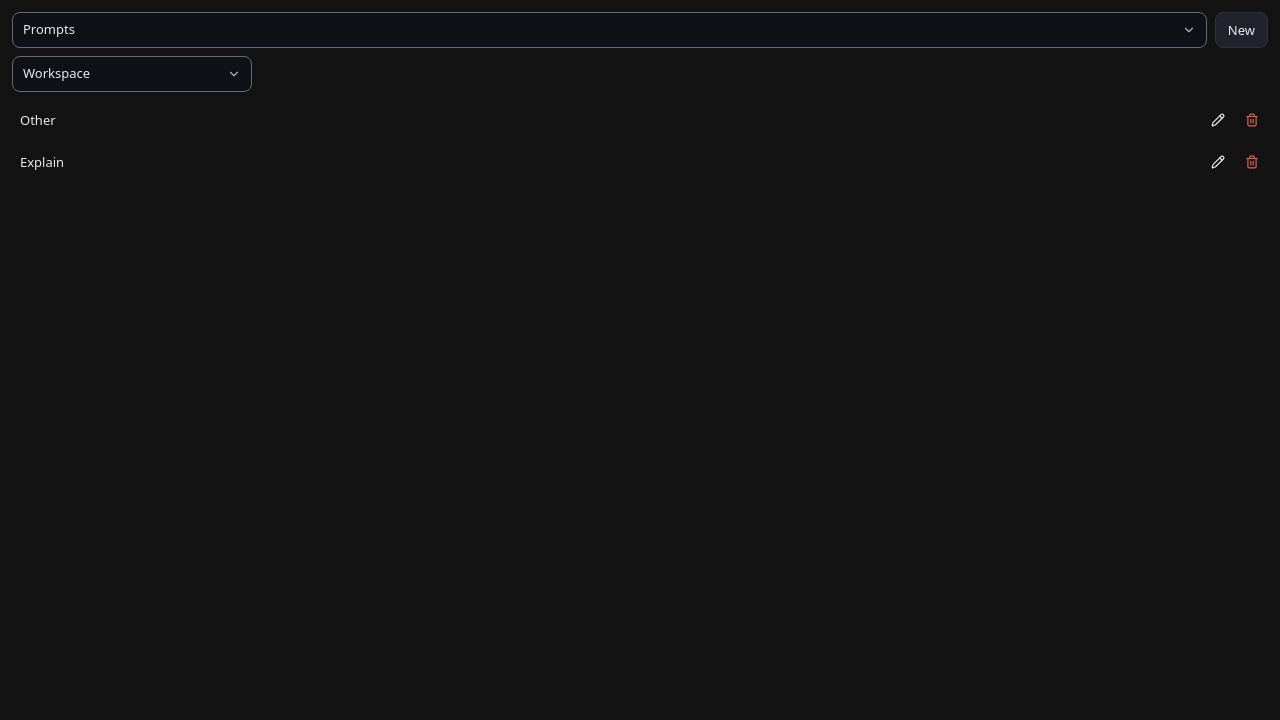
Test: ResourceBrowserPanel parity with the resource pages › warns before deleting a resource graphs still use
Click the button named "Delete Explain" at (1252, 162), box [1236,146,1268,178]
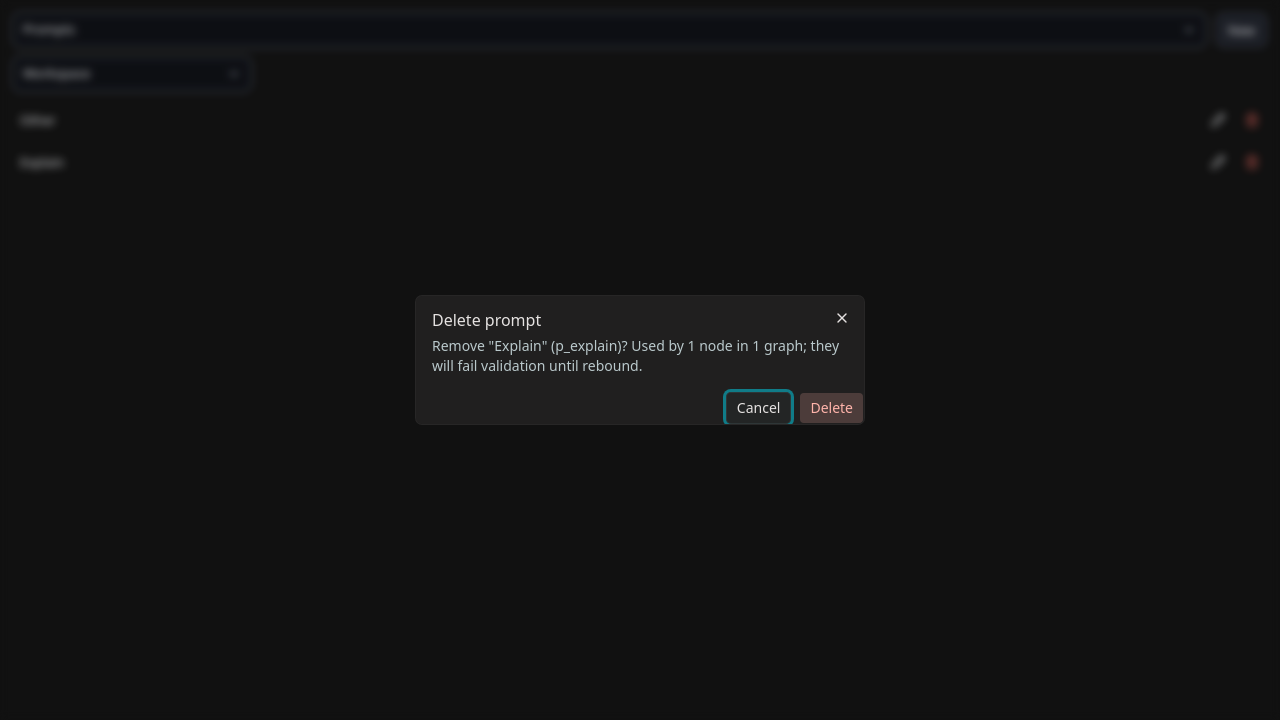
Check: the text "Used by 1 node in 1 graph" is shown, box [432,336,839,375]
